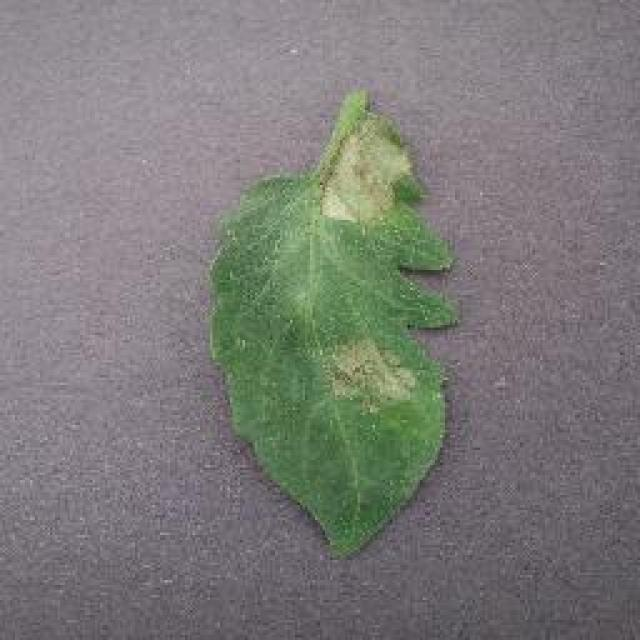Tomato___Late_blight: (200, 88, 461, 561)
